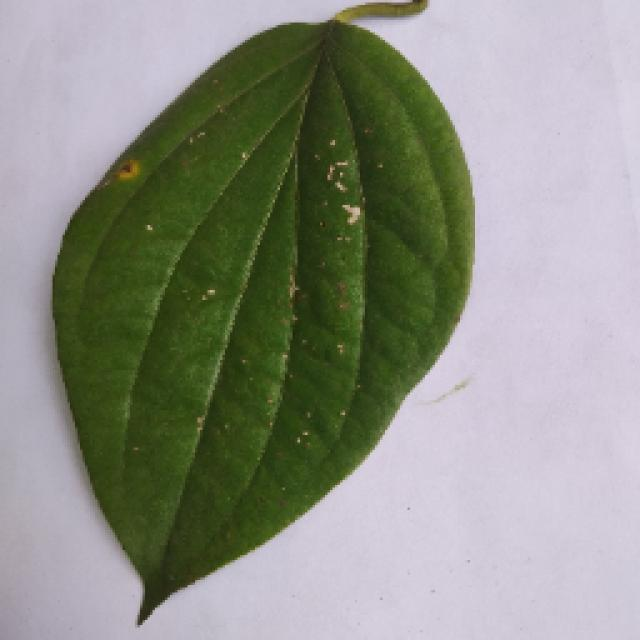pollu-disease: (18, 20, 540, 625)
